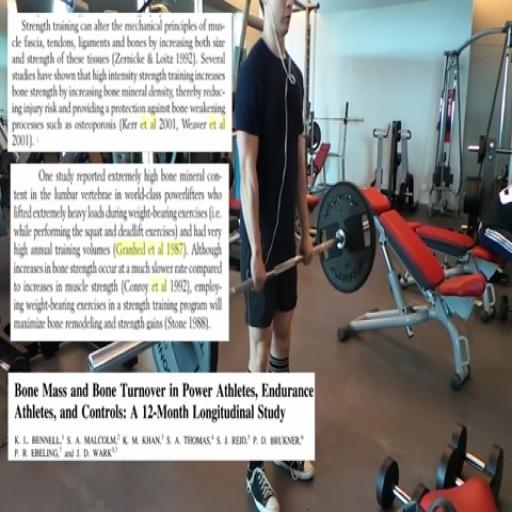exercise: (231, 0, 317, 511)
